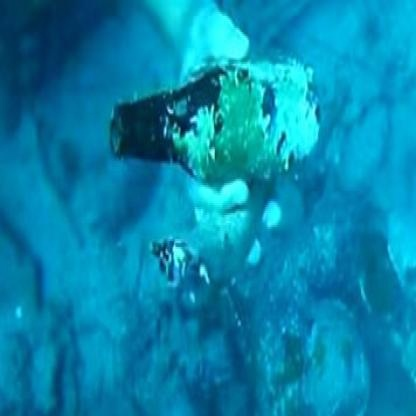gbottle: (96, 62, 335, 189)
